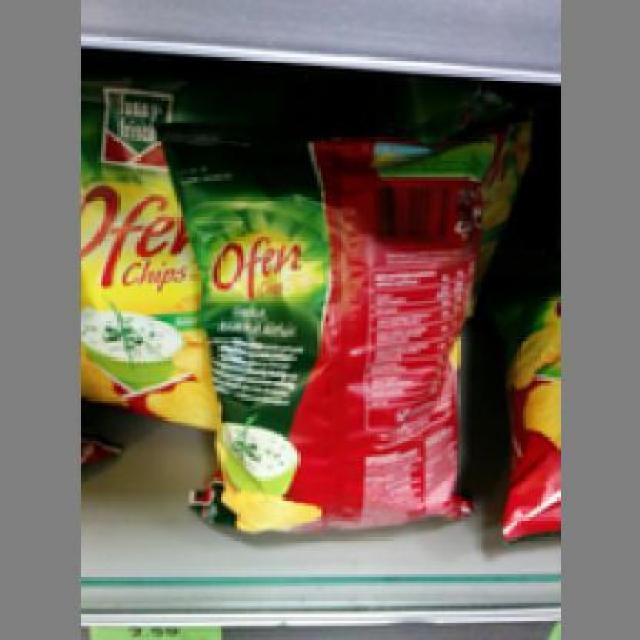Chips: (183, 123, 477, 534)
